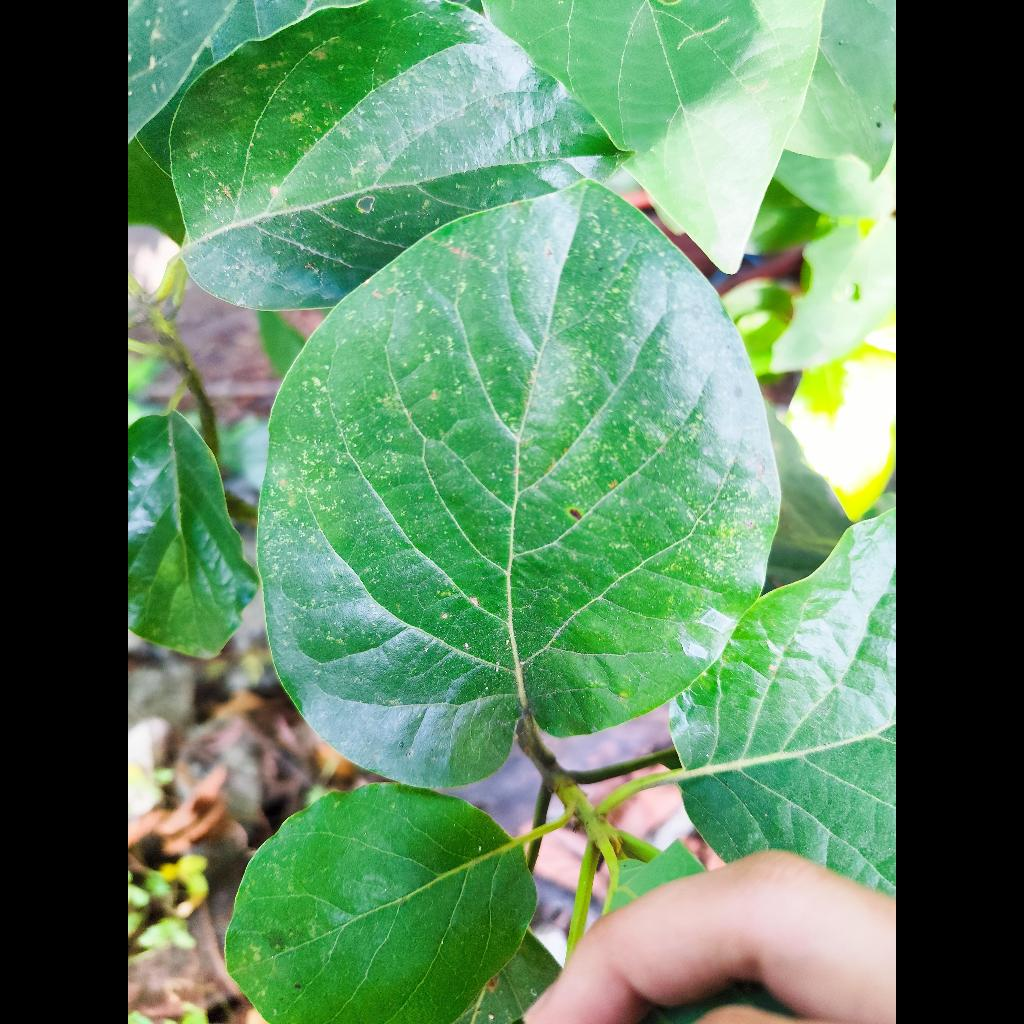Anthracnose: (260, 181, 777, 786), (170, 0, 623, 309)
